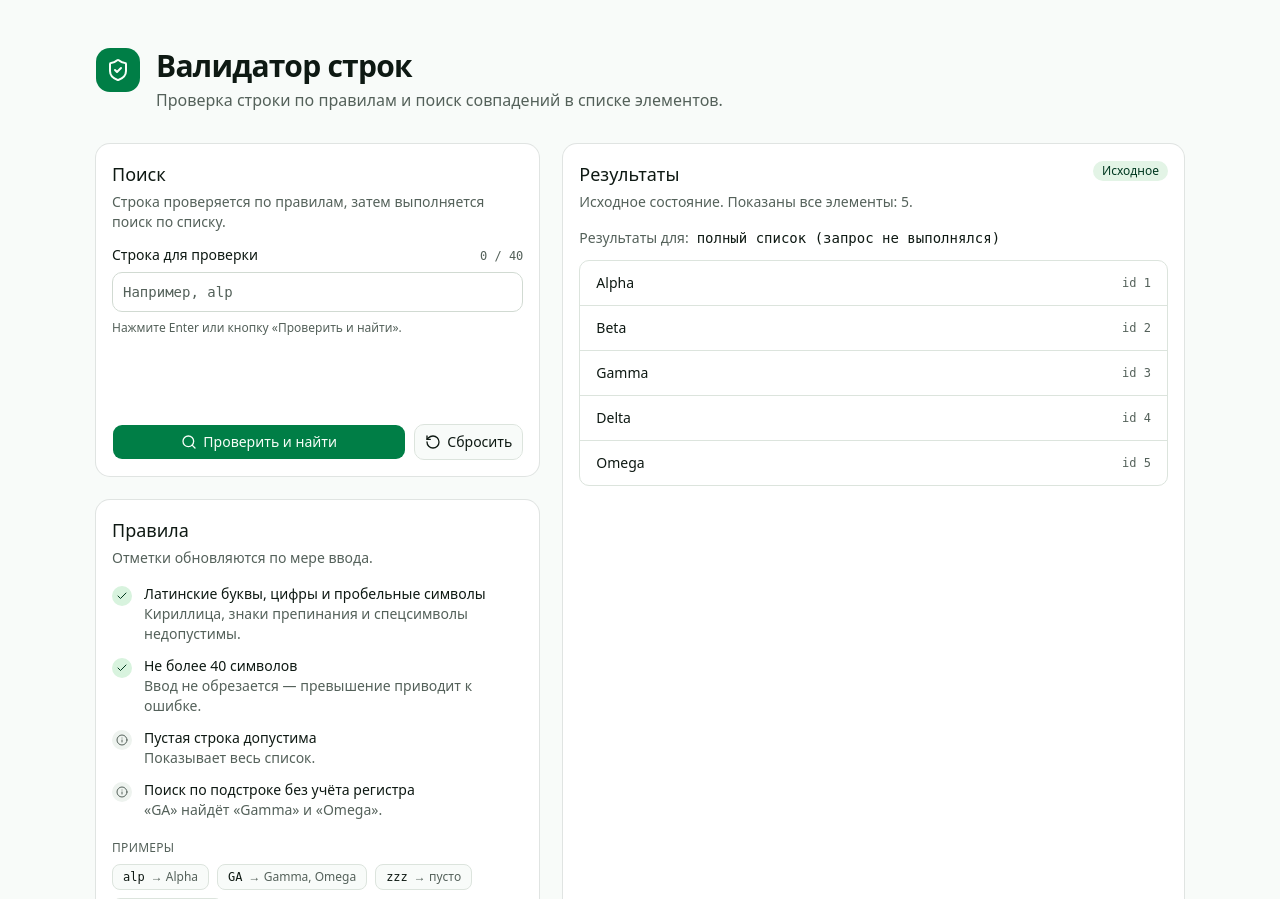
Test: Подменённые ответы сервера и состояния › shows loading, preserves the previous list and permits only one request for double click and repeated Enter
This screenshot has width=1280, height=899.
Type "alp" into the field labelled "Строка для проверки". click: (318, 292)
box: [112,272,523,312]
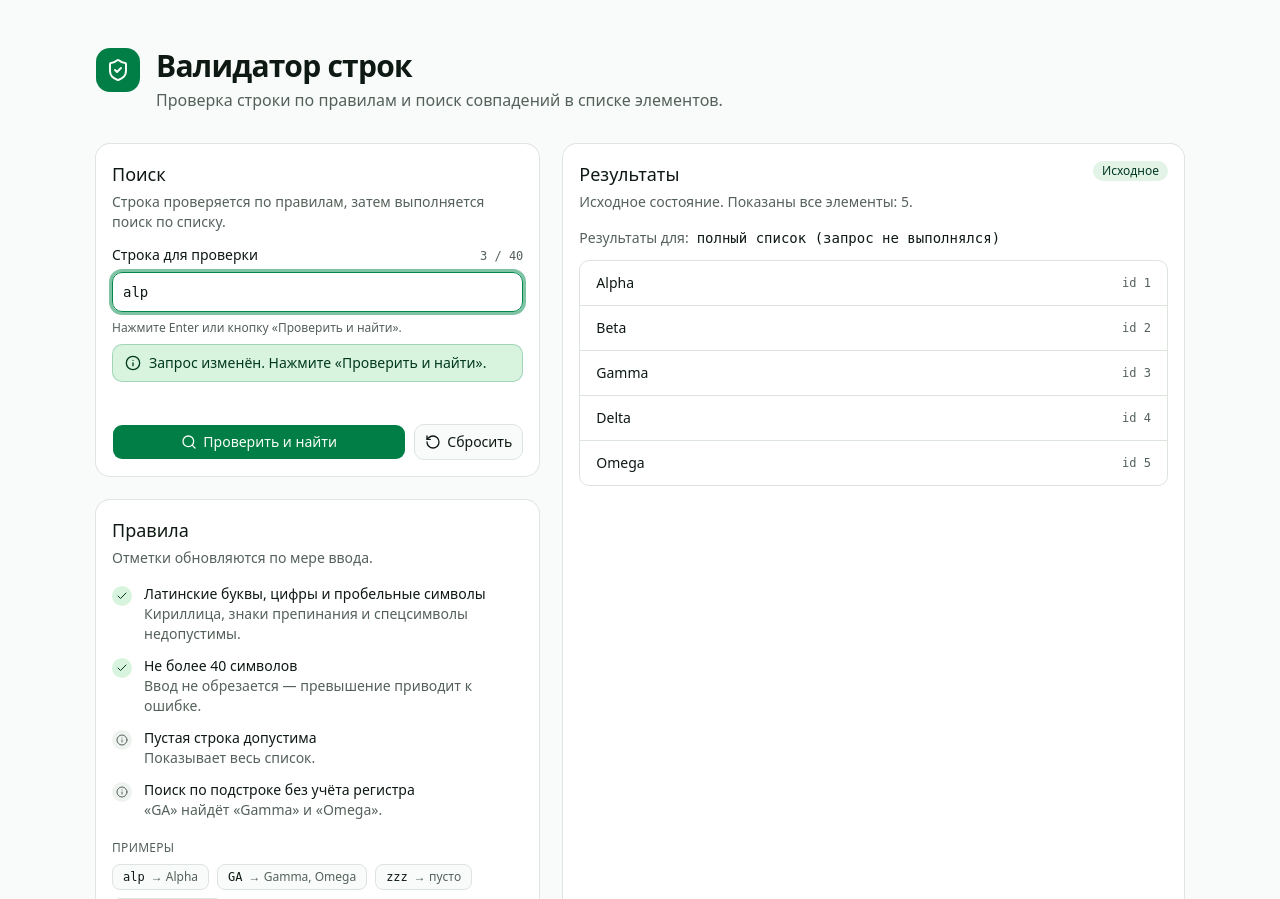
Double-click the button "Проверить и найти" at (259, 442), box [112,424,406,460]
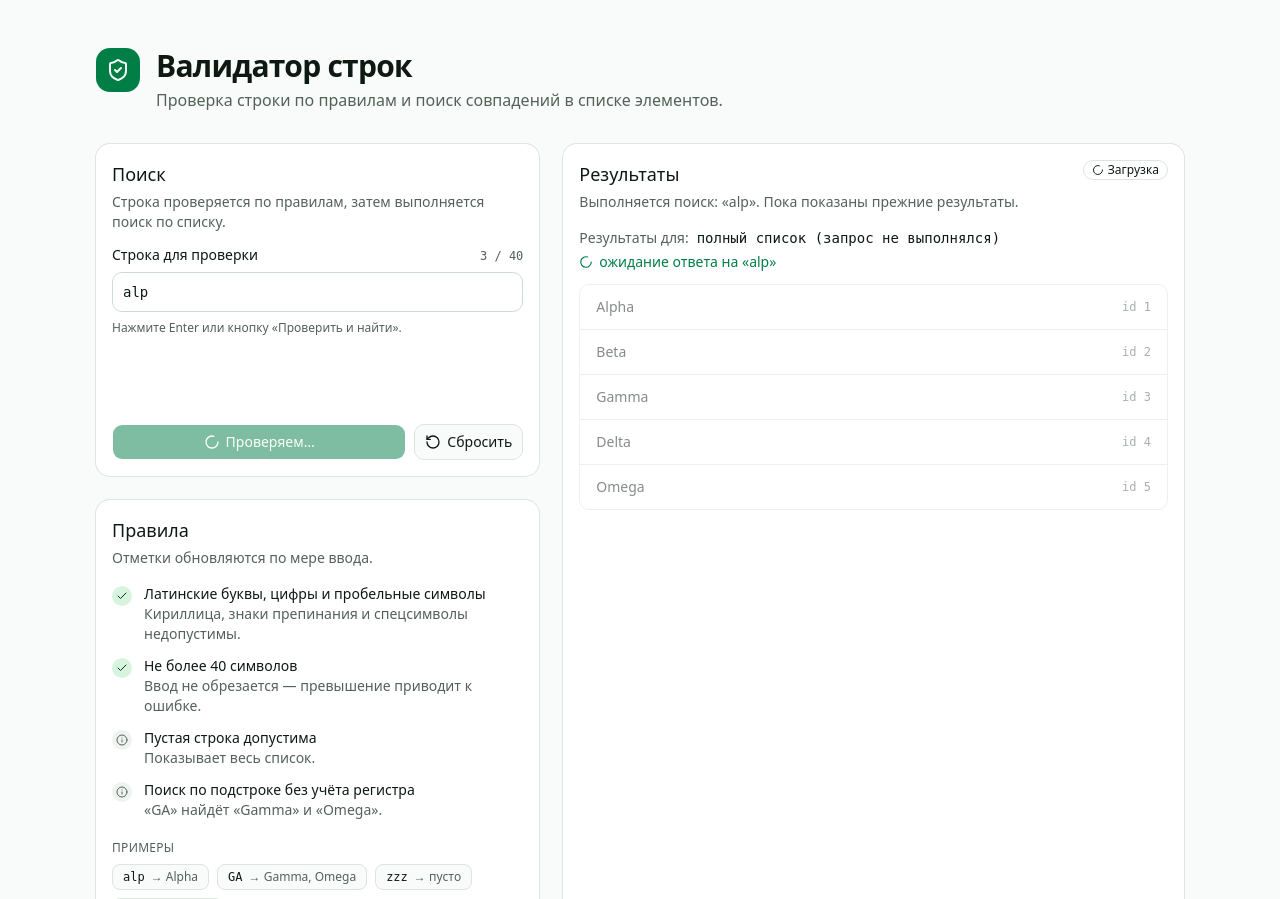
Check: the button "Проверяем…" is disabled, box [112,424,406,460]
Click the field labelled "Строка для проверки". click: (318, 292)
box: [112,272,523,312]
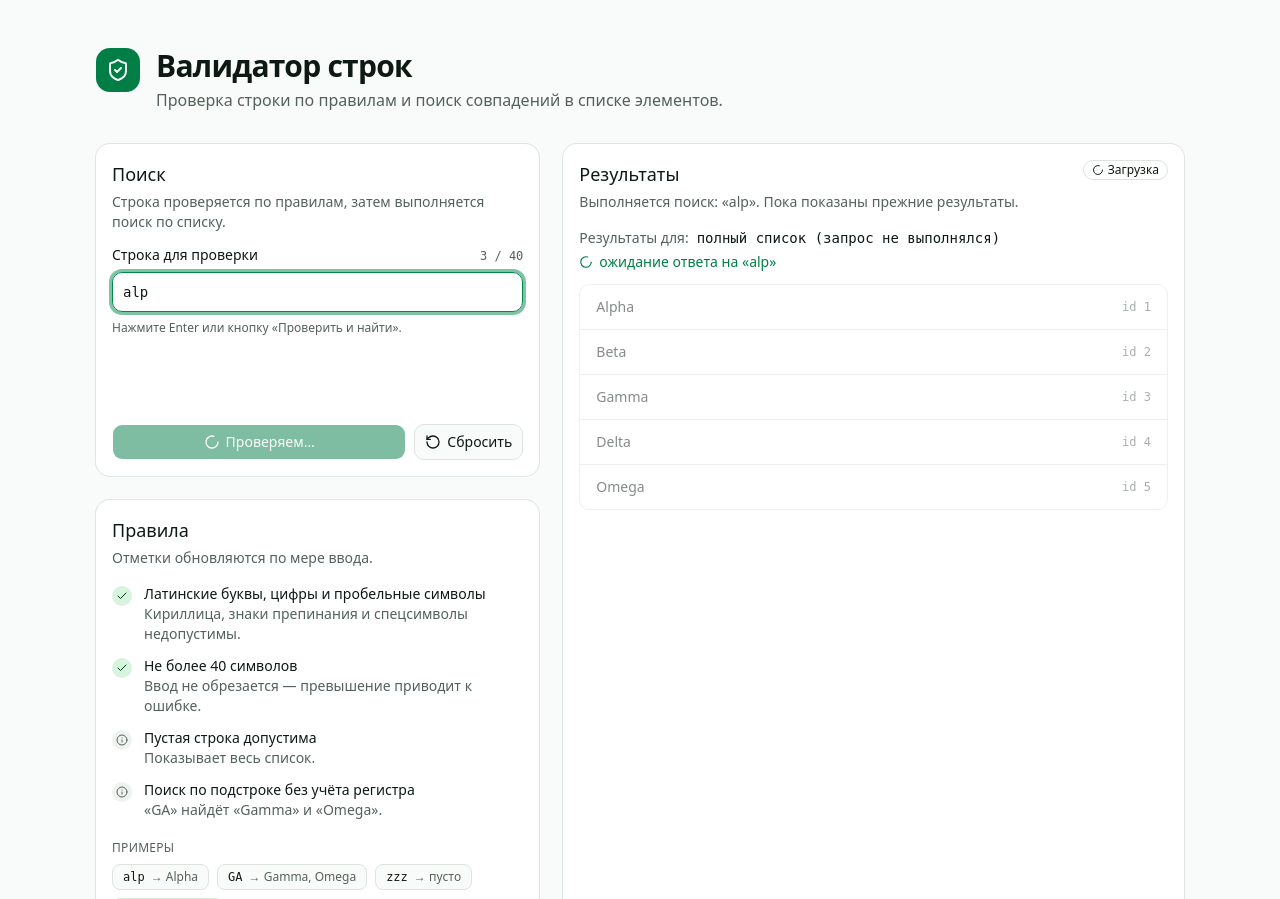
Press Enter Enter
(page scrolled)
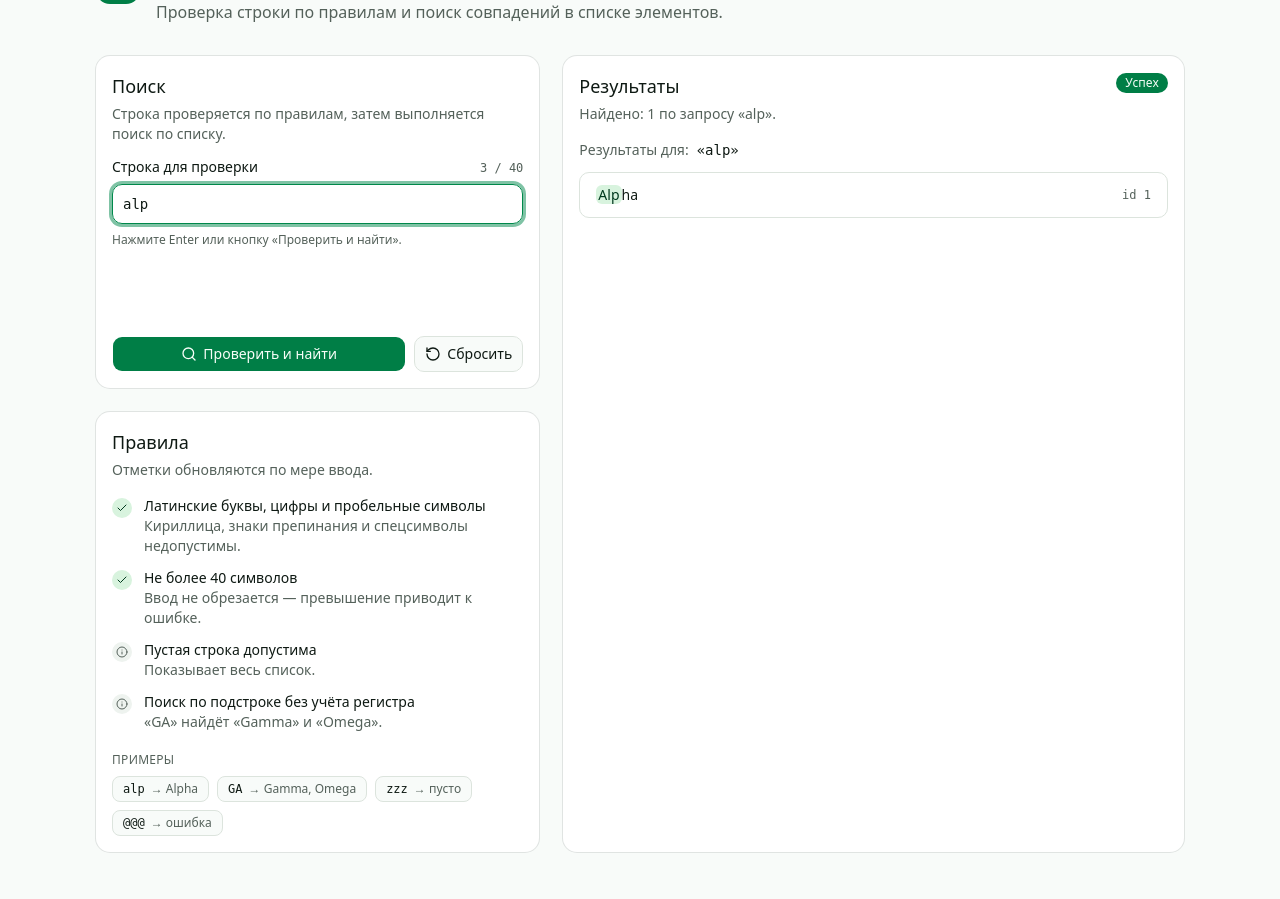
Check: the button named "Проверяем…" is enabled, box [112,336,406,372]
